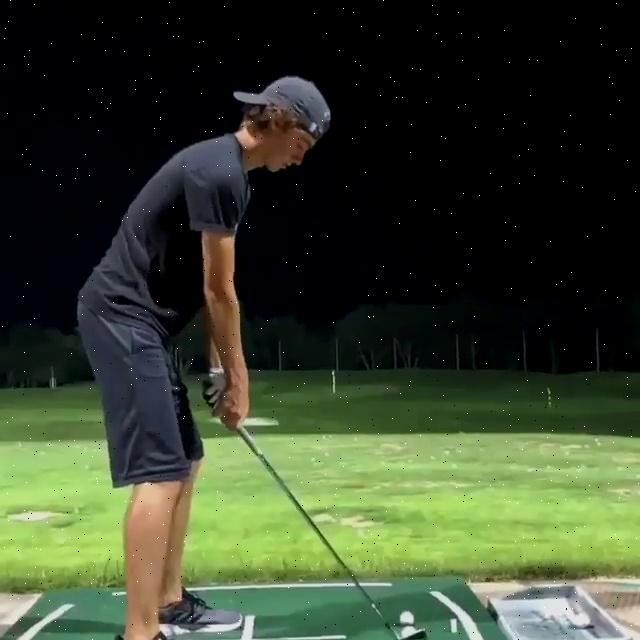golf ball: (400, 610, 415, 627)
golf club-handle: (203, 379, 426, 640)
golf club-head: (397, 628, 427, 640)
